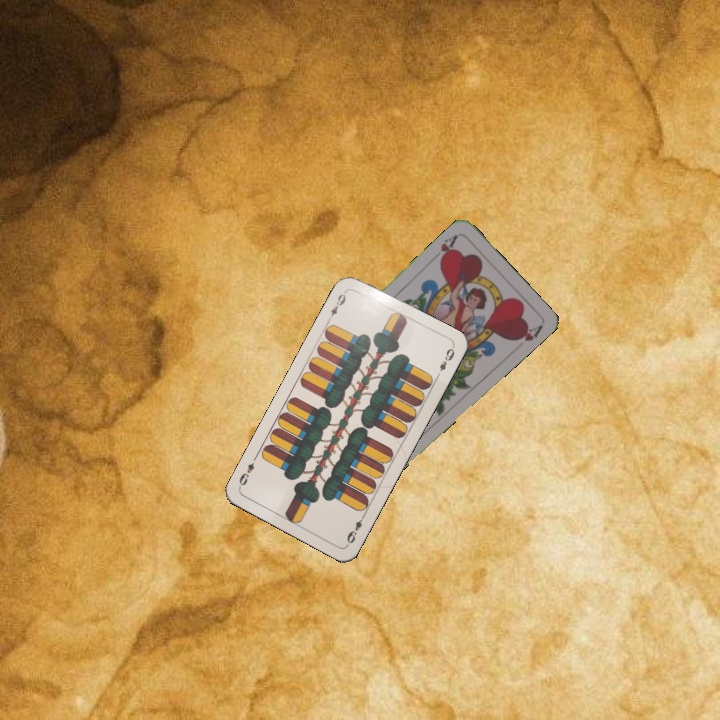E9: (324, 286, 349, 323), (343, 510, 368, 546)
HA: (429, 230, 460, 266)
